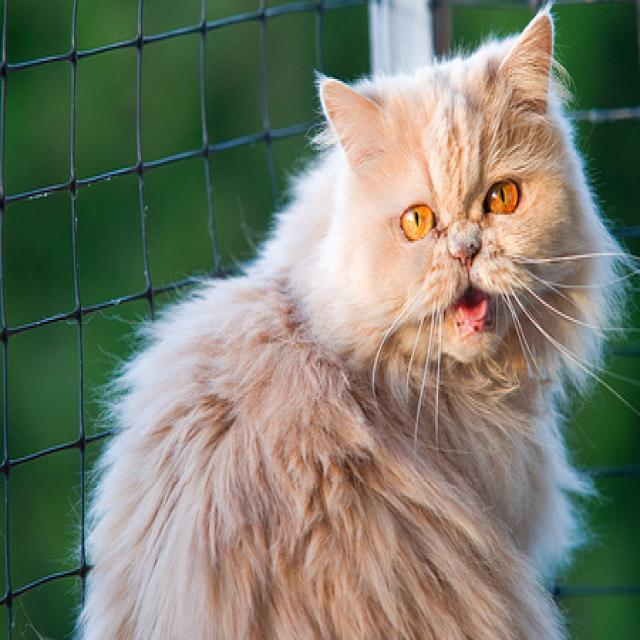Persian: (64, 8, 633, 640)
